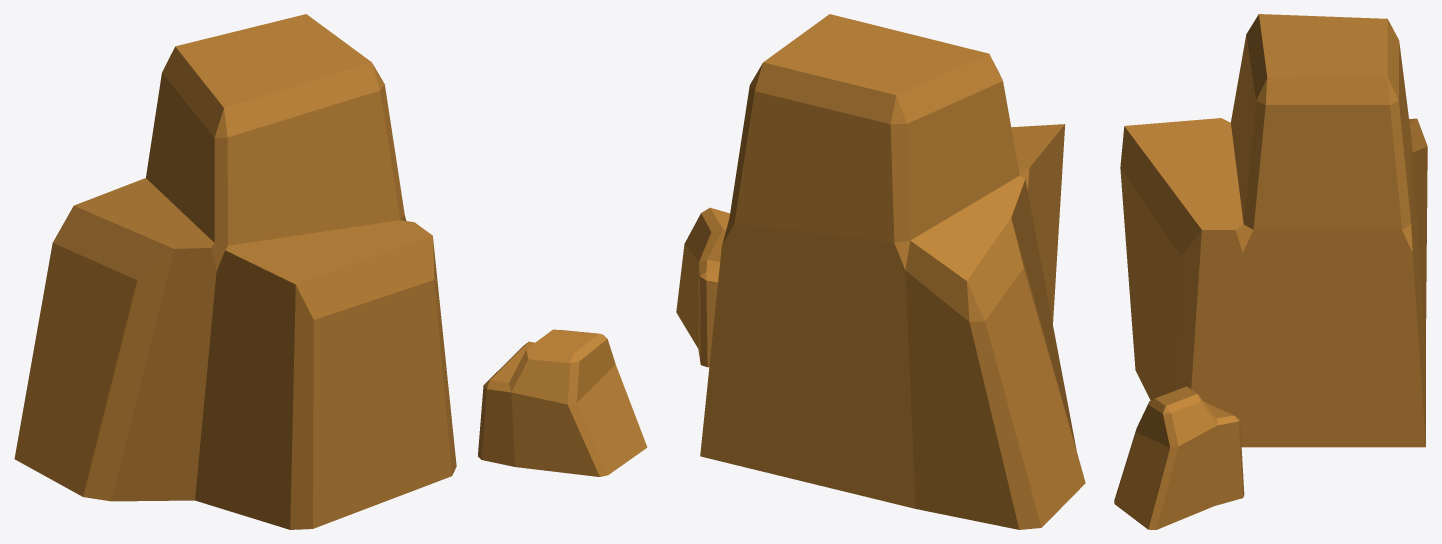
The picture shows the model from 3 angles, left to right: view 1: azimuth 30°, elevation 25°; view 2: azimuth 150°, elevation 25°; view 3: azimuth 270°, elevation 25°; orthographic projection. The views are drawn at different scales.
Parts seen in each view (by area): view 1: da; view 2: da; view 3: da.
Part boxes in pixels (x1,y1,x2,y2): da: (14, 14, 647, 529); da: (676, 14, 1085, 529); da: (1114, 14, 1427, 529).
Bounding box in the file's own units: 2.69 × 2.02 × 1.6.
Materials: 1 (1 with a texture image).
